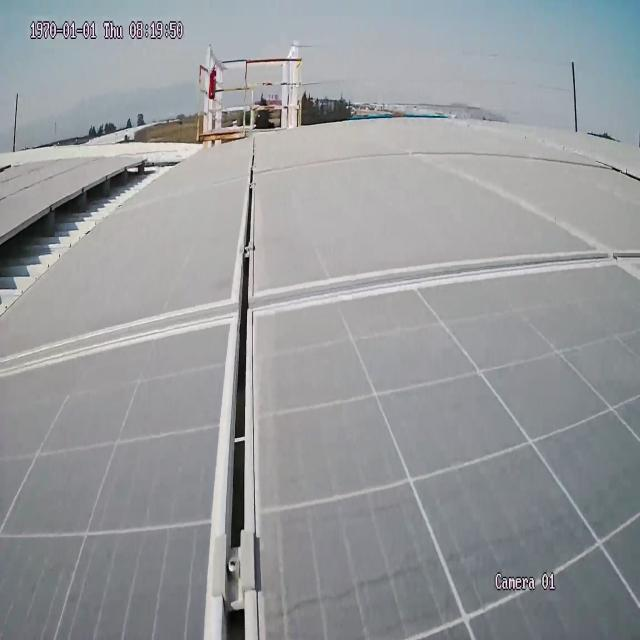interior panel: (0, 138, 640, 636), (258, 157, 581, 279), (0, 156, 98, 218)
outher panel: (0, 154, 184, 329), (1, 161, 17, 184)
